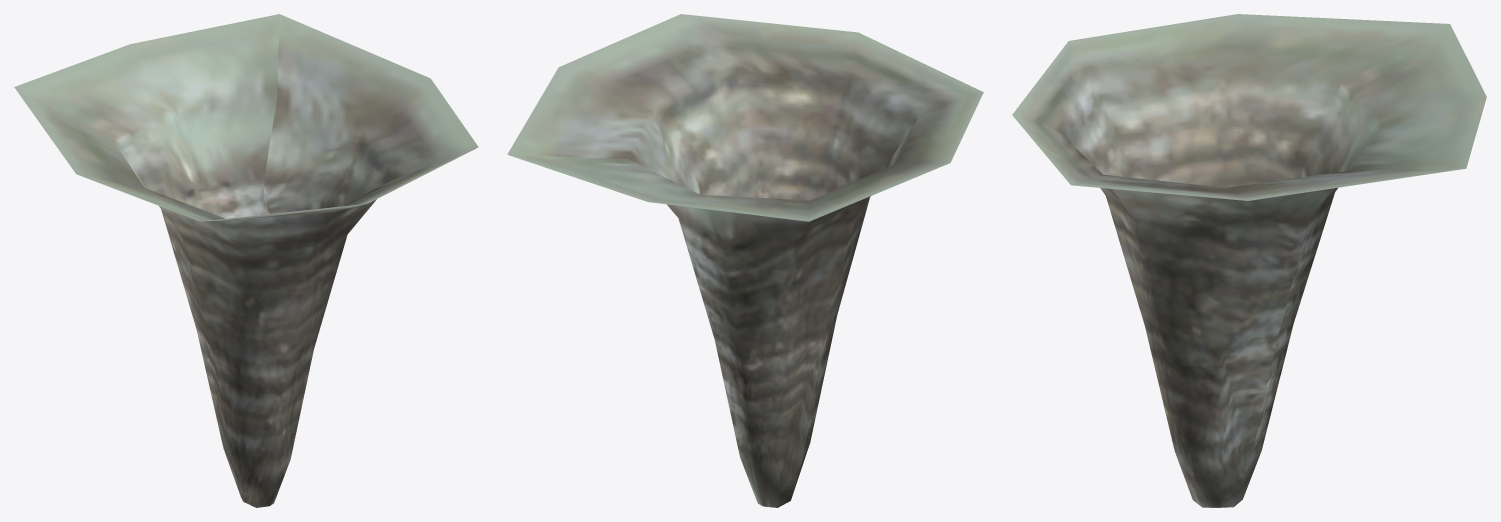
The model's file is TROLLHOLE02_PS-MAINSTALAG92.fbx.
The picture shows the model from 3 angles, left to right: view 1: azimuth 30°, elevation 25°; view 2: azimuth 150°, elevation 25°; view 3: azimuth 270°, elevation 25°; orthographic projection. The views are drawn at different scales.
Parts seen in each view (by area): view 1: TROLLHOLE02_PS-MAINSTALAG92; view 2: TROLLHOLE02_PS-MAINSTALAG92; view 3: TROLLHOLE02_PS-MAINSTALAG92.
Part boxes in pixels (x1,y1,x2,y2): TROLLHOLE02_PS-MAINSTALAG92: (14,14,478,507); TROLLHOLE02_PS-MAINSTALAG92: (507,14,983,507); TROLLHOLE02_PS-MAINSTALAG92: (1012,14,1486,507).
Bounding box in the file's own units: 26401 × 26373 × 27567.
Materials: 1 (1 with a texture image).
